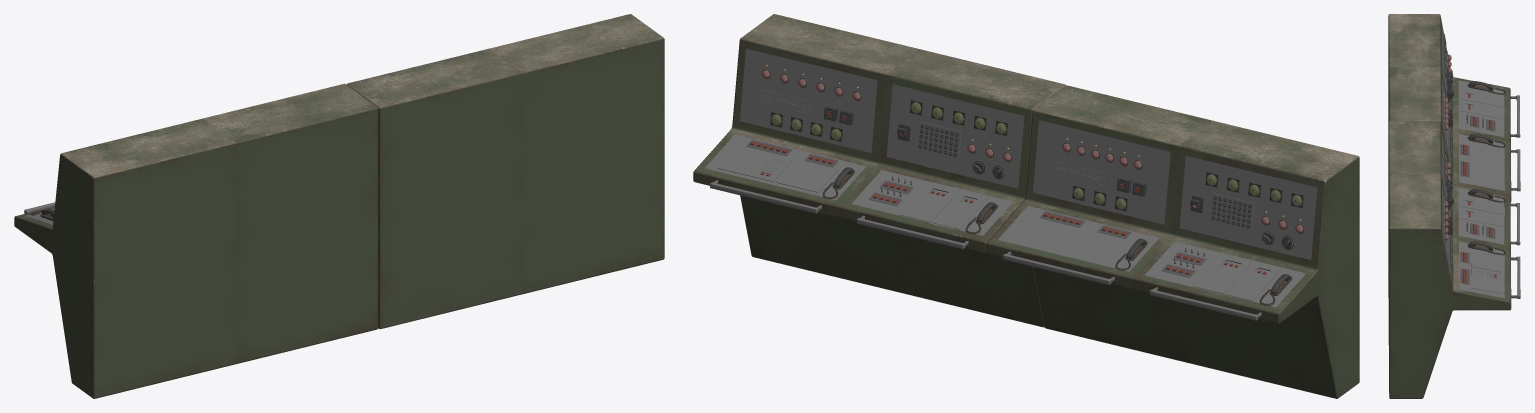
File: control_panel2.glb
3 views of the same model, side by side, from view 1: azimuth 30°, elevation 25°; view 2: azimuth 150°, elevation 25°; view 3: azimuth 270°, elevation 25° (orthographic). The views are drawn at different scales.
Visible parts, largest first — view 1: Cube.028, Cube.338, Cube.359, Cube.421; view 2: Cube.028, Cube.338, Cube.421, Cube.359, Cube.045, Cube.048, Cube.051, Cube.029, Cube.292, Cube.052, Cube.046, Cube.049 (+6 smaller); view 3: Cube.421, Cube.359, Cube.338, Cube.028, Cube.292, Cube.052, Cube.046, Cube.049, Cube.329, Cube.044, Cube.045, Cube.048 (+6 smaller).
Part boxes in pixels (box(x1,y1,x2,y2)): Cube.028: box(14, 118, 236, 398); Cube.338: box(346, 48, 522, 329); Cube.359: box(203, 83, 378, 363); Cube.421: box(489, 14, 664, 294); Cube.028: box(1132, 120, 1359, 398); Cube.338: box(839, 49, 1066, 327); Cube.421: box(693, 14, 919, 291); Cube.359: box(986, 85, 1212, 363); Cube.045: box(1033, 120, 1170, 224); Cube.048: box(740, 48, 877, 152); Cube.051: box(886, 84, 1024, 188); Cube.029: box(1179, 155, 1317, 259); Cube.292: box(1144, 241, 1305, 307); Cube.052: box(851, 170, 1012, 235); Cube.046: box(998, 206, 1158, 271); Cube.049: box(705, 134, 865, 199); Cube.421: box(1388, 174, 1511, 398); Cube.359: box(1388, 67, 1511, 202); Cube.338: box(1388, 121, 1510, 297); Cube.028: box(1388, 14, 1510, 141); Cube.292: box(1458, 80, 1504, 136); Cube.052: box(1458, 188, 1504, 244); Cube.046: box(1459, 134, 1504, 190); Cube.049: box(1459, 241, 1504, 298); Cube.329: box(1471, 267, 1501, 293); Cube.044: box(1471, 251, 1501, 272); Cube.045: box(1442, 78, 1451, 173); Cube.048: box(1442, 185, 1451, 281).
Size of the model in its own units: 3.95 by 1.47 by 1.03.
7 materials, 2 textured.
